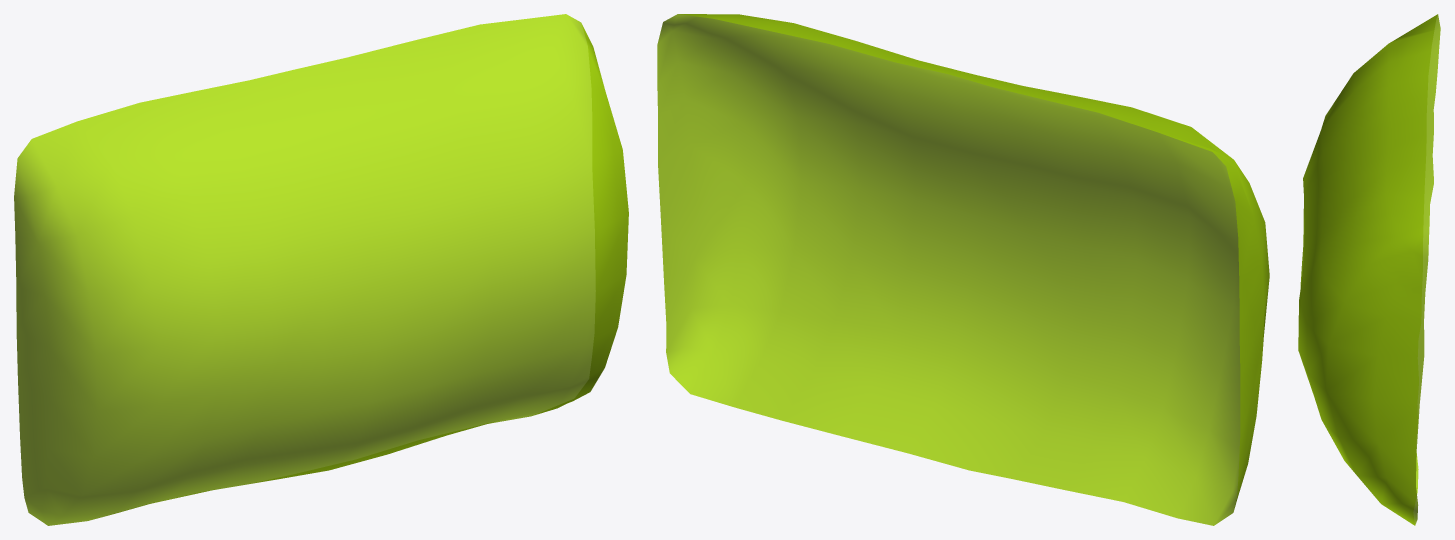
The model's file is laptopGlass.fbx.
3 renders of one model, left to right at view 1: azimuth 30°, elevation 25°; view 2: azimuth 150°, elevation 25°; view 3: azimuth 270°, elevation 25°, orthographic. The views are drawn at different scales.
Parts seen in each view (by area): view 1: laptopGlass; view 2: laptopGlass; view 3: laptopGlass.
Part boxes in pixels (<box>): laptopGlass: <box>14,14,628,525</box>; laptopGlass: <box>657,14,1269,525</box>; laptopGlass: <box>1298,14,1440,525</box>.
Bounding box in the file's own units: 34.6 × 22.81 × 9.25.
